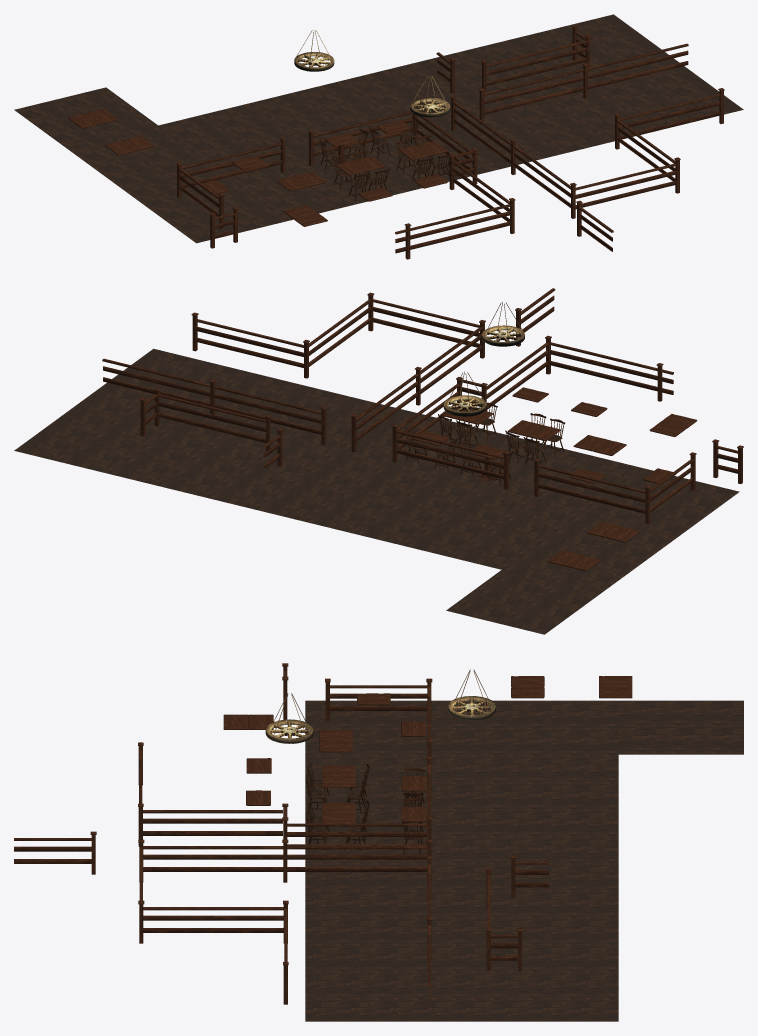
The model's file is SalaOWW_RT_001.glb.
3 renders of one model, top to bottom at view 1: azimuth 30°, elevation 25°; view 2: azimuth 150°, elevation 25°; view 3: azimuth 270°, elevation 25°, orthographic. The views are drawn at different scales.
Visible parts, largest first — view 1: floor_B_mesh, bordo_mesh, Table_B, Table_A, RuoteCarro_bake_mesh.001, RuoteCarro_bake_mesh.004; view 2: floor_B_mesh, bordo_mesh, Table_B, Table_A, RuoteCarro_bake_mesh.001, RuoteCarro_bake_mesh.004; view 3: floor_B_mesh, bordo_mesh, Table_B, Table_A, RuoteCarro_bake_mesh.001, RuoteCarro_bake_mesh.004.
Boxes of the visible parts, left/top/right/bottom form: floor_B_mesh: left=14, top=14, right=743, bottom=243; bordo_mesh: left=176, top=25, right=724, bottom=259; Table_B: left=276, top=141, right=448, bottom=226; Table_A: left=68, top=109, right=410, bottom=195; RuoteCarro_bake_mesh.001: left=294, top=30, right=334, bottom=71; RuoteCarro_bake_mesh.004: left=410, top=75, right=449, bottom=117; floor_B_mesh: left=14, top=348, right=739, bottom=634; bordo_mesh: left=102, top=288, right=743, bottom=523; Table_B: left=440, top=387, right=697, bottom=455; Table_A: left=413, top=430, right=676, bottom=571; RuoteCarro_bake_mesh.001: left=443, top=371, right=486, bottom=416; RuoteCarro_bake_mesh.004: left=482, top=302, right=524, bottom=346; floor_B_mesh: left=305, top=700, right=743, bottom=1021; bordo_mesh: left=14, top=663, right=548, bottom=1008; Table_B: left=223, top=714, right=355, bottom=823; Table_A: left=357, top=676, right=632, bottom=822; RuoteCarro_bake_mesh.001: left=447, top=669, right=495, bottom=720; RuoteCarro_bake_mesh.004: left=265, top=693, right=313, bottom=743.
Bounding box in the file's own units: 18.2 × 3.71 × 17.48.
Materials: 7 (7 with a texture image).
